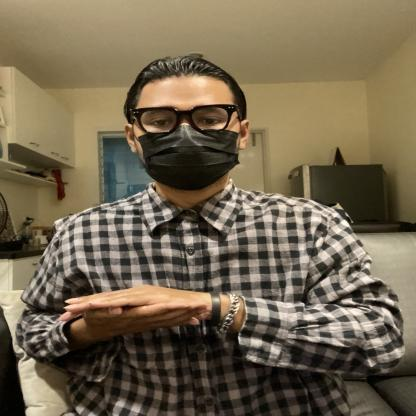Love: (36, 249, 284, 360)
